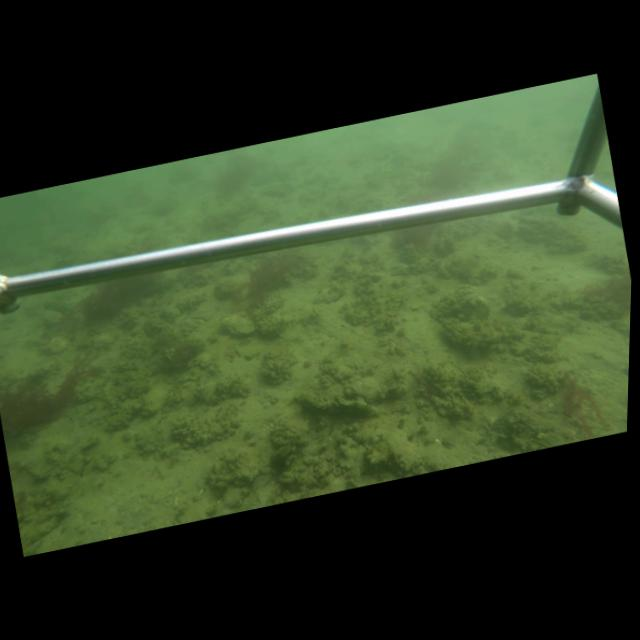Oyster-Closed: (222, 308, 257, 338), (78, 390, 96, 401)
